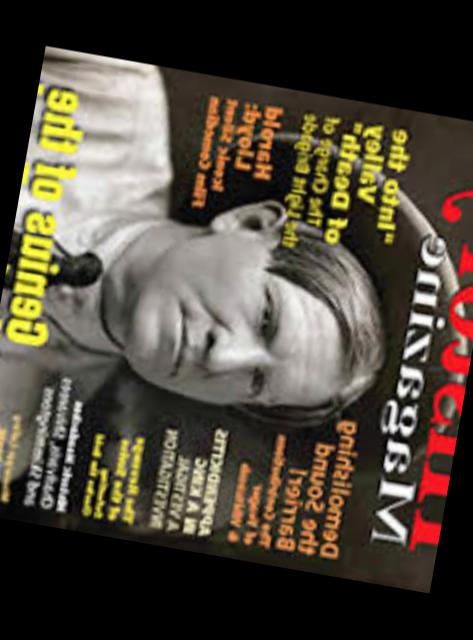cardboard paper: (0, 46, 473, 594)
